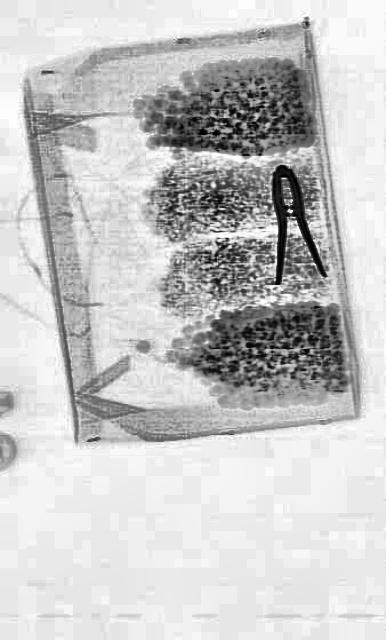Pliers: (260, 156, 326, 290)
